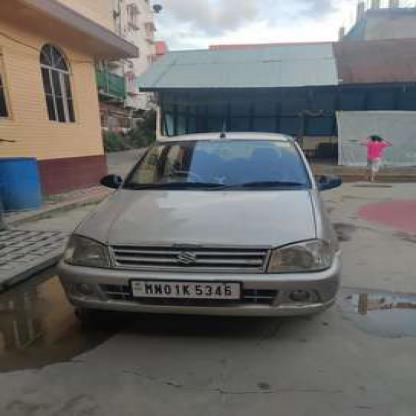license_plate: (128, 277, 238, 298)
